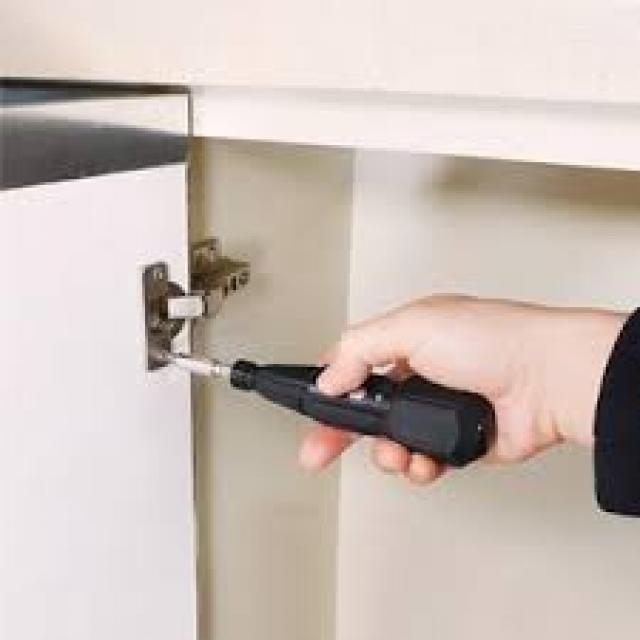screwdriver: (142, 344, 501, 484)
